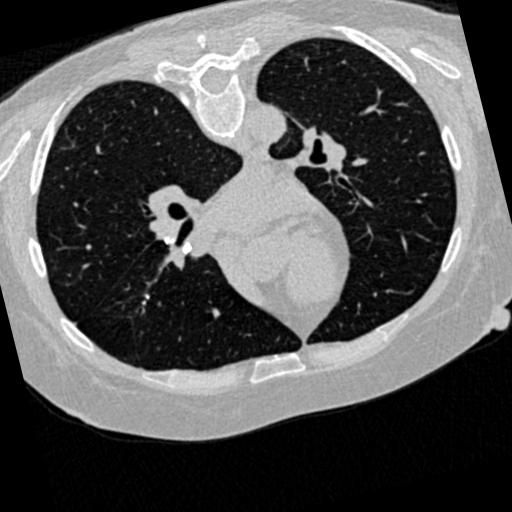nodule: (136, 296, 151, 311)
